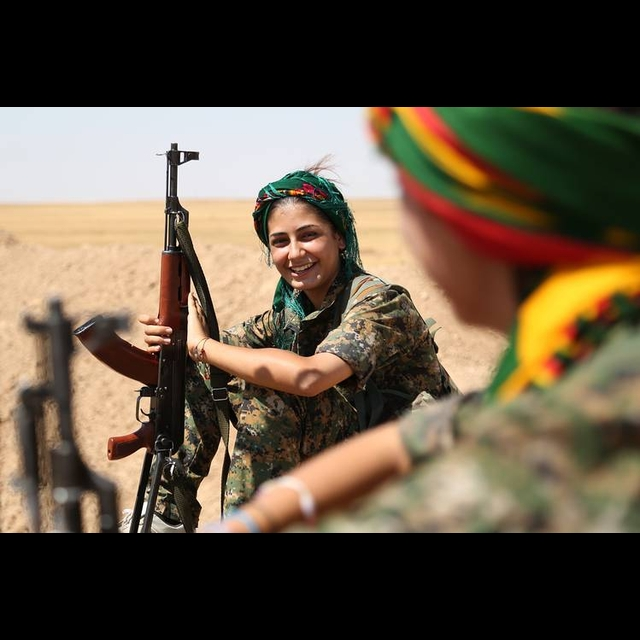AK47: (70, 143, 196, 464)
